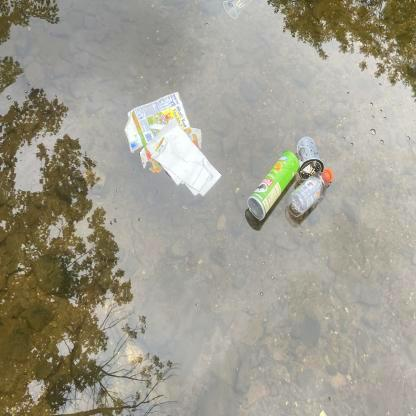Metal: (246, 148, 303, 224)
Plastic: (286, 168, 337, 219), (289, 134, 324, 175)
